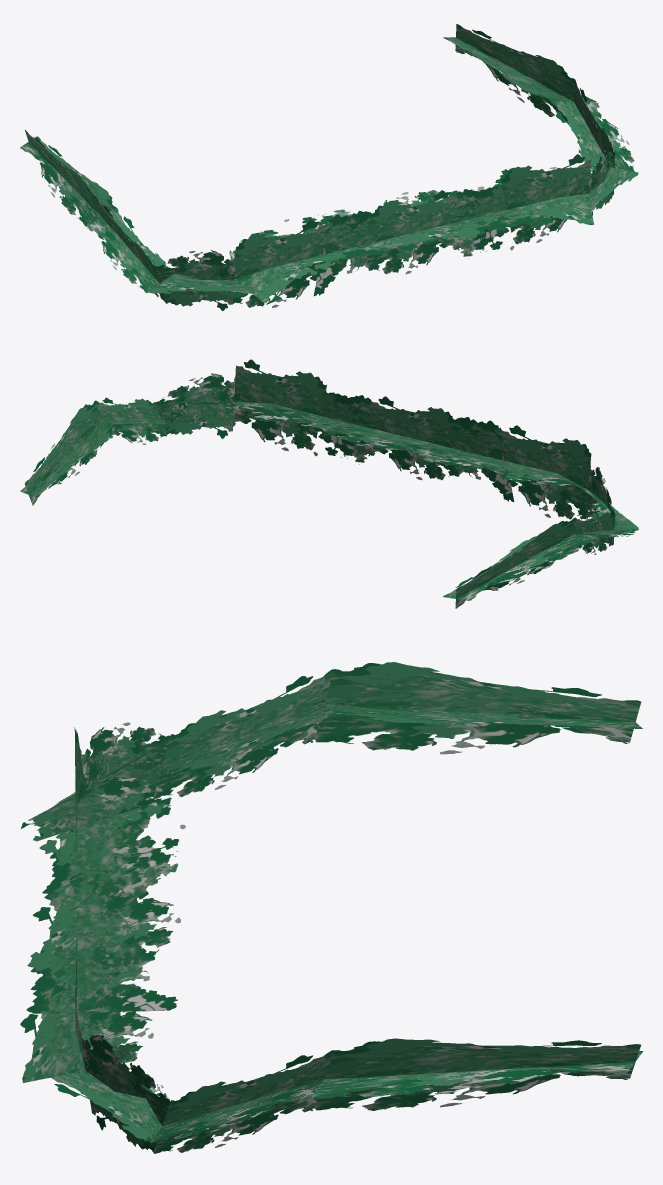
Rendered from Wreath03_Art.fbx.
The picture shows the model from 3 angles, top to bottom: view 1: azimuth 30°, elevation 25°; view 2: azimuth 150°, elevation 25°; view 3: azimuth 270°, elevation 25°; orthographic projection. The views are drawn at different scales.
Parts seen in each view (by area): view 1: Wreath03_Art; view 2: Wreath03_Art; view 3: Wreath03_Art.
Part boxes in pixels (x1,y1,x2,y2): Wreath03_Art: [20, 24, 638, 311]; Wreath03_Art: [20, 359, 638, 608]; Wreath03_Art: [20, 662, 642, 1153].
Size of the model in its own units: 2.62 by 0.4899 by 1.65.
